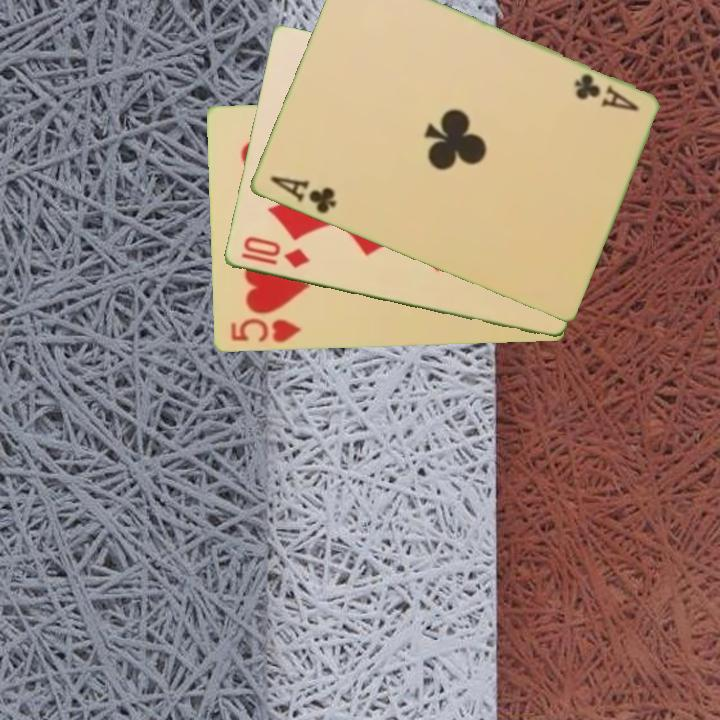10d: (237, 233, 313, 271)
5h: (226, 315, 304, 346)
Ac: (265, 172, 339, 217), (570, 70, 641, 115)
